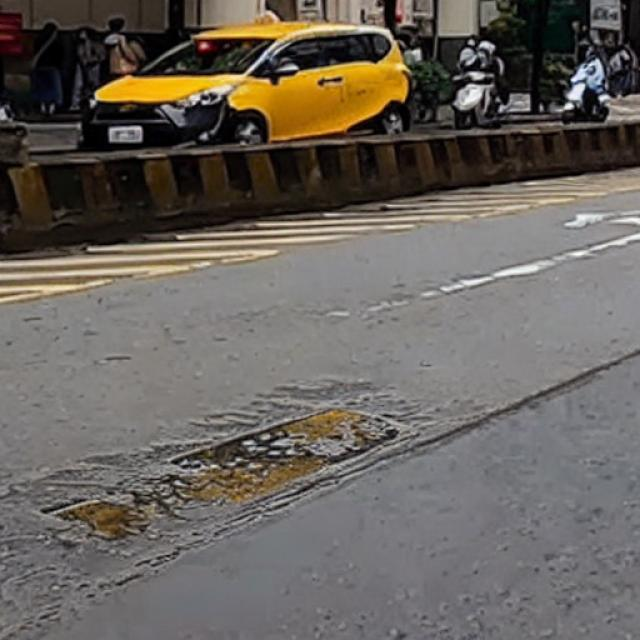puddle: (48, 406, 406, 542)
